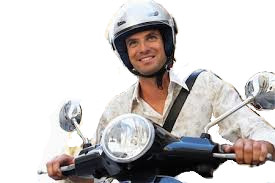com_capacete: (105, 1, 179, 79)
